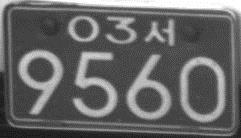0: (178, 56, 226, 123), (66, 14, 99, 43)
3: (105, 15, 136, 45)
5: (71, 50, 118, 118)
6: (125, 52, 172, 121)
9: (17, 48, 64, 115)
서: (144, 19, 174, 47)
